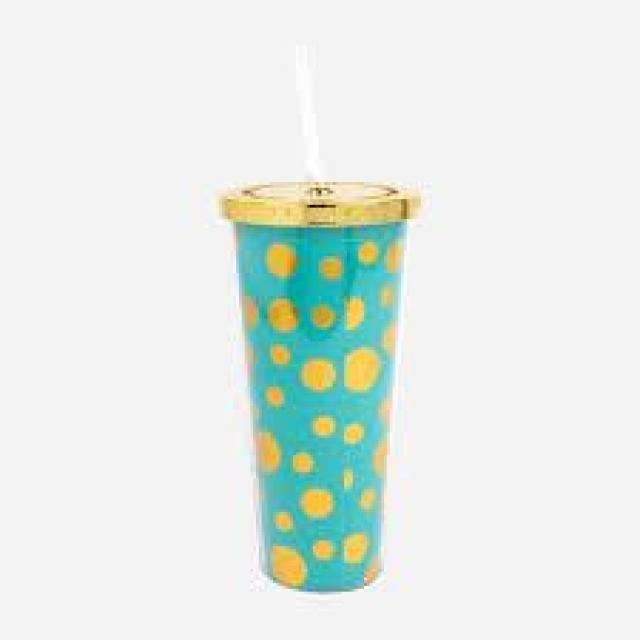bottle: (213, 165, 430, 600)
